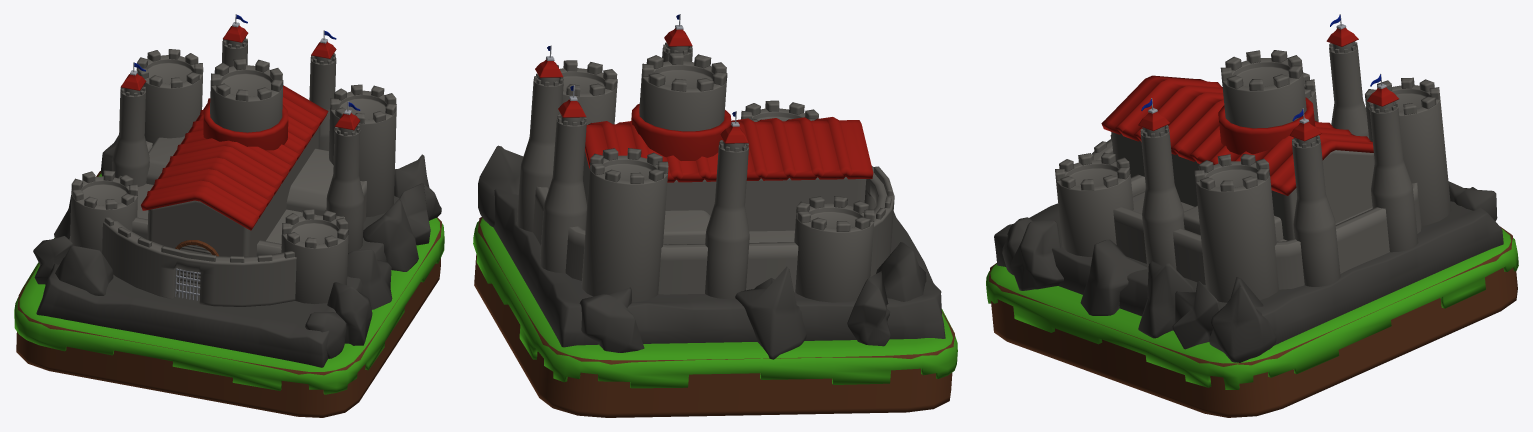
The model's file is castillo_animales.glb.
The picture shows the model from 3 angles, left to right: view 1: azimuth 30°, elevation 25°; view 2: azimuth 150°, elevation 25°; view 3: azimuth 270°, elevation 25°; orthographic projection. The views are drawn at different scales.
Parts seen in each view (by area): view 1: Castle 8, Castle 8.036, Castle 8.001, Castle 8.029, Castle 8.033, Castle 8.025, Castle 8.031, Castle 8.032, Castle 8.027, Castle 8.035, Castle 8.030, Castle 8.034 (+4 smaller); view 2: Castle 8, Castle 8.036, Castle 8.001, Castle 8.033, Castle 8.029, Castle 8.034, Castle 8.031, Castle 8.035, Castle 8.032, Castle 8.027, Castle 8.028, Castle 8.025 (+2 smaller); view 3: Castle 8, Castle 8.001, Castle 8.036, Castle 8.033, Castle 8.029, Castle 8.034, Castle 8.028, Castle 8.032, Castle 8.031, Castle 8.027, Castle 8.035, Castle 8.030.
Boxes of the visible parts, x1,y1,x2,y2 form: Castle 8: (33,135,441,367); Castle 8.036: (14,173,444,394); Castle 8.001: (16,171,441,417); Castle 8.029: (141,85,328,230); Castle 8.033: (136,49,396,217); Castle 8.025: (102,217,296,306); Castle 8.031: (70,170,348,303); Castle 8.032: (112,85,363,252); Castle 8.027: (147,125,320,256); Castle 8.035: (210,58,283,132); Castle 8.030: (146,136,333,215); Castle 8.034: (222,37,336,150); Castle 8: (478,145,945,359); Castle 8.036: (473,218,957,388); Castle 8.001: (474,217,954,417); Castle 8.033: (557,60,668,302); Castle 8.029: (585,104,873,182); Castle 8.034: (516,73,586,273); Castle 8.031: (741,100,874,302); Castle 8.035: (639,52,727,131); Castle 8.032: (662,42,749,298); Castle 8.027: (583,151,866,231); Castle 8.028: (533,186,798,294); Castle 8.025: (864,166,894,276); Castle 8: (994,181,1503,362); Castle 8.001: (988,226,1517,417); Castle 8.036: (986,228,1518,389); Castle 8.033: (1194,77,1451,302); Castle 8.029: (1101,75,1373,195); Castle 8.034: (1292,101,1418,286); Castle 8.028: (1113,174,1421,289); Castle 8.032: (1140,41,1368,271); Castle 8.031: (1055,72,1318,256); Castle 8.027: (1111,132,1374,240); Castle 8.035: (1220,50,1306,128); Castle 8.030: (1183,205,1283,241).
Bounding box in the file's own units: 8.89 × 5.38 × 8.87.
